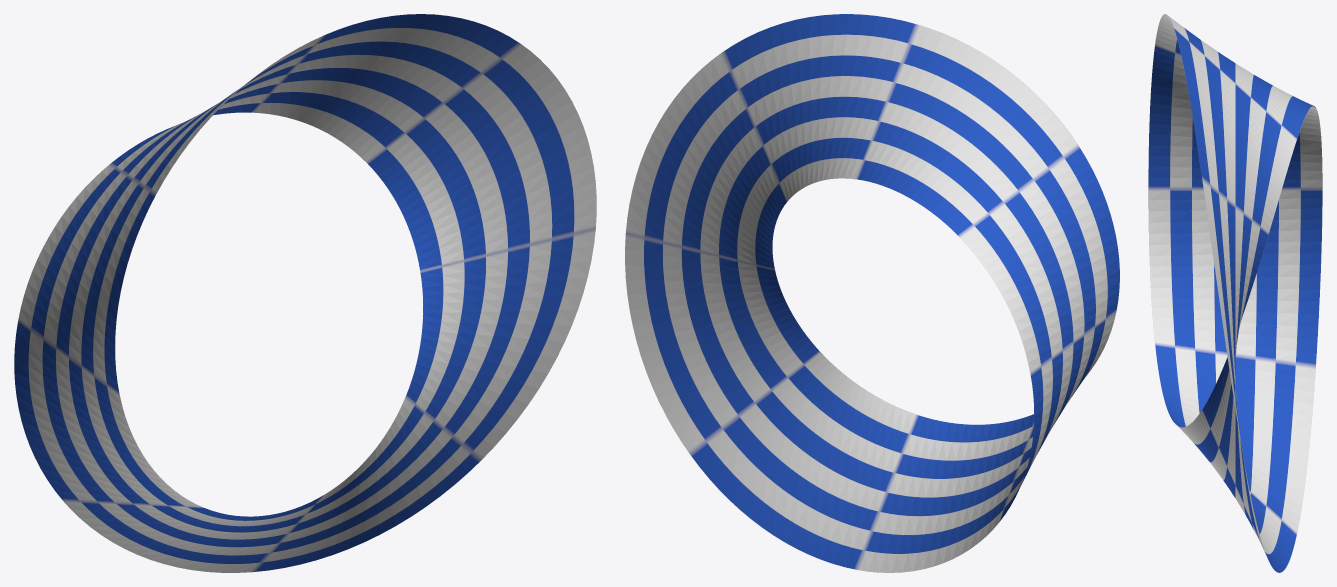
Rendered from mobius.obj.
The picture shows the model from 3 angles, left to right: view 1: azimuth 30°, elevation 25°; view 2: azimuth 150°, elevation 25°; view 3: azimuth 270°, elevation 25°; orthographic projection. The views are drawn at different scales.
Bounding box in the file's own units: 2.42 × 2.58 × 0.8.
1 material, 1 textured.
